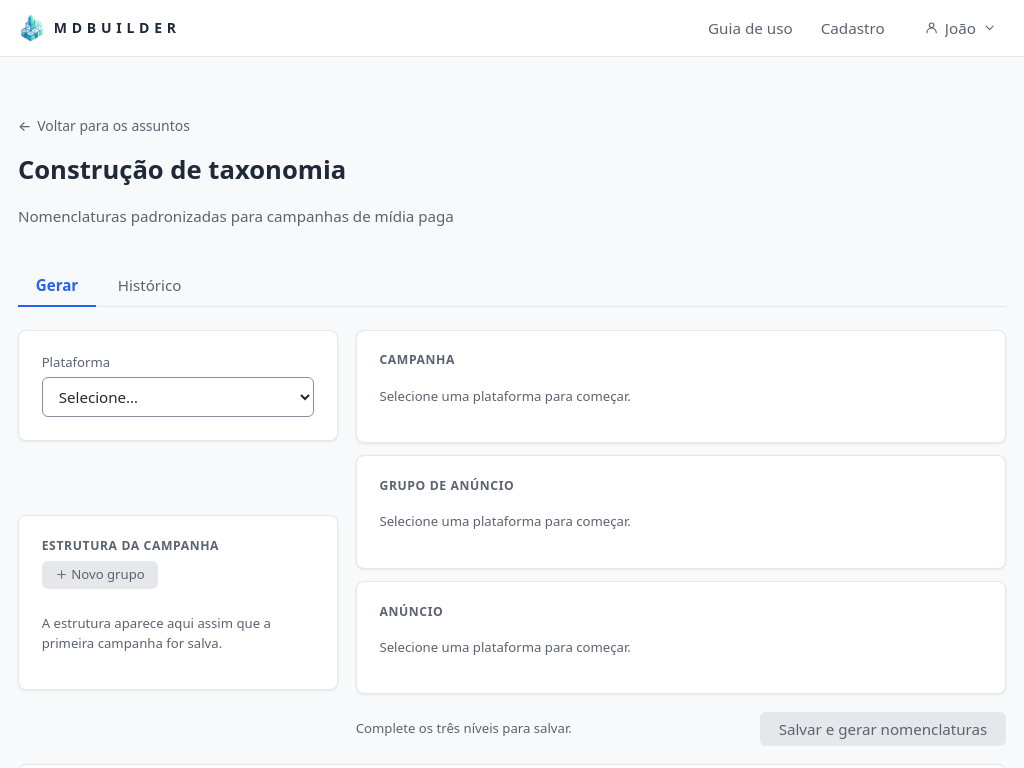
Scenario: menu de conta › mostra identidade, papel e o que o papel destrava
The width and height of the screenshot is (1024, 768).
expect the tab "Gerar" is shown: met, box [18, 266, 96, 307]
Click the button "João".
click(960, 28)  # box [915, 11, 1006, 45]
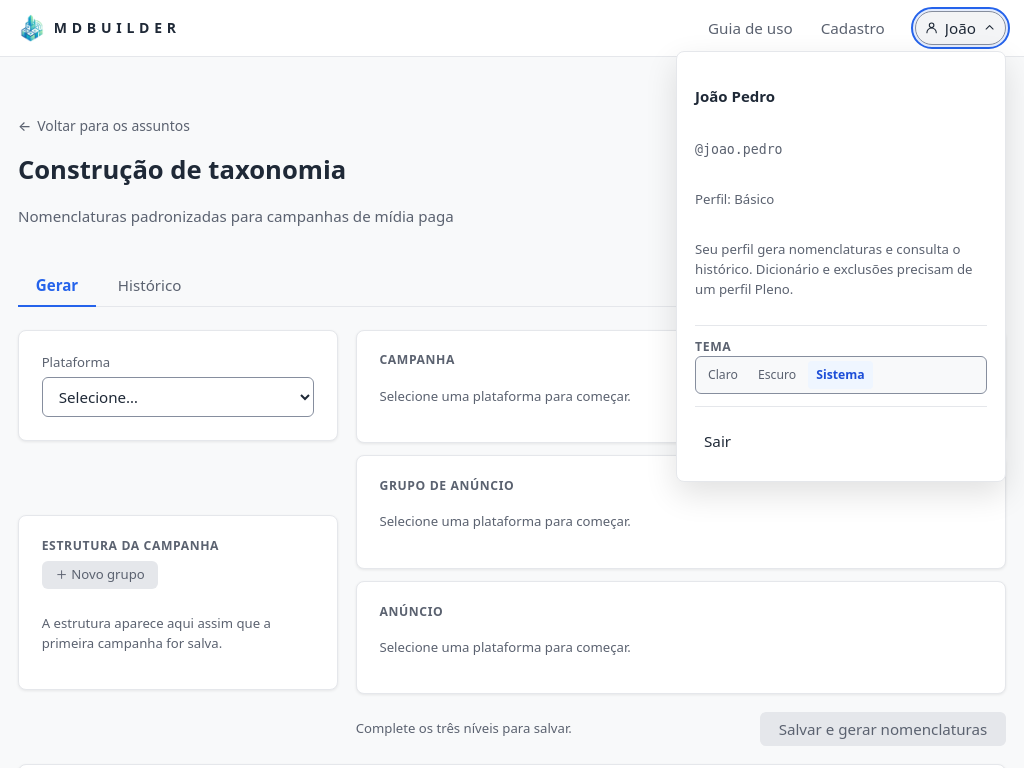
expect the text "João Pedro" is shown: met, box [695, 86, 775, 106]
expect the text "@joao.pedro" is shown: met, box [695, 142, 783, 157]
expect the text "Perfil: Básico" is shown: met, box [695, 190, 774, 208]
